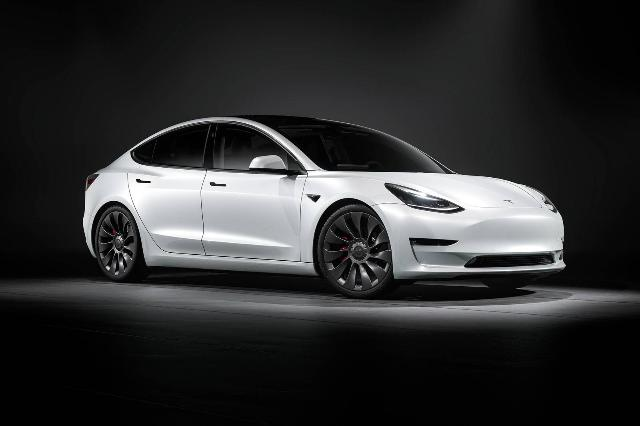tesla: (81, 112, 566, 298)
